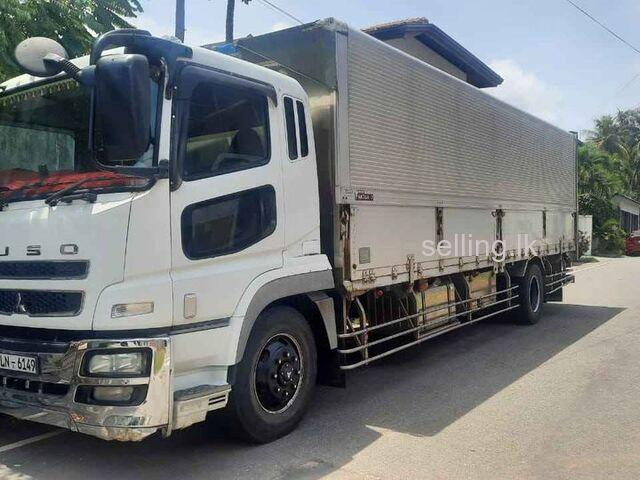truck: (1, 16, 577, 444)
